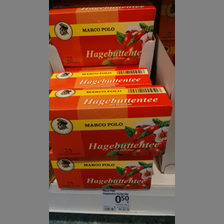tea: (49, 85, 172, 160), (49, 5, 156, 69), (50, 71, 152, 88)
